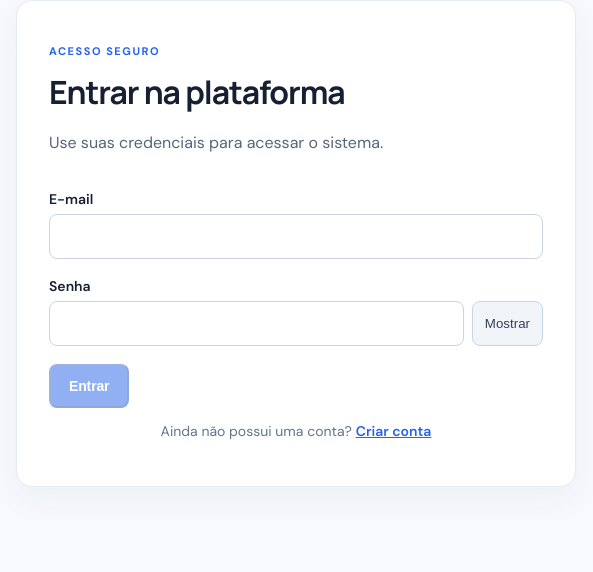
Test: shows generic login feedback for any credential failure
In the field labelled "E-mail": [296, 236] box [49,214,543,259], type "person@example.com"
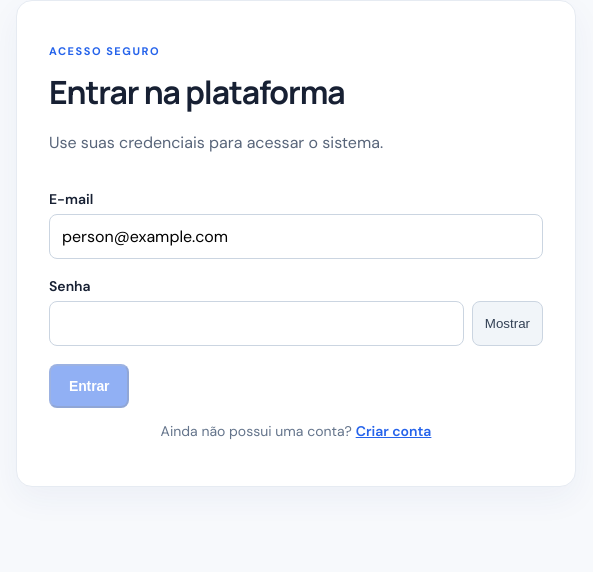
In the password field labelled "Senha": [256, 324] box [49,301,464,346], type "not-a-real-secret"
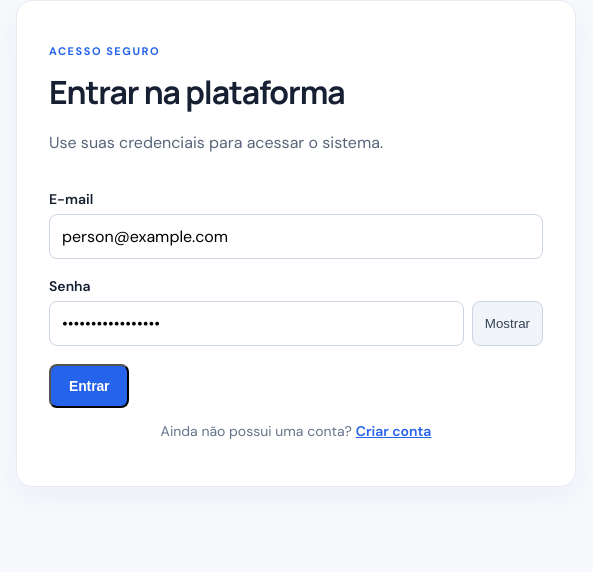
Click the button "Entrar": [89, 386] box [49,364,129,408]
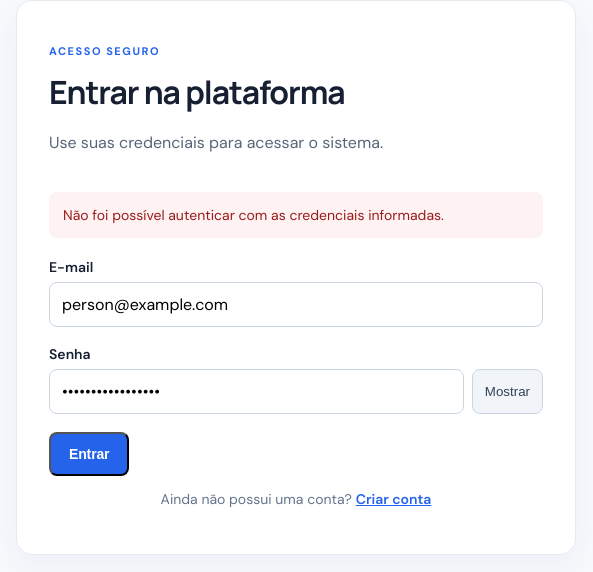
Expected: the text "Não foi possível autenticar com as credenciais informadas." is shown, [49,192,543,238]
